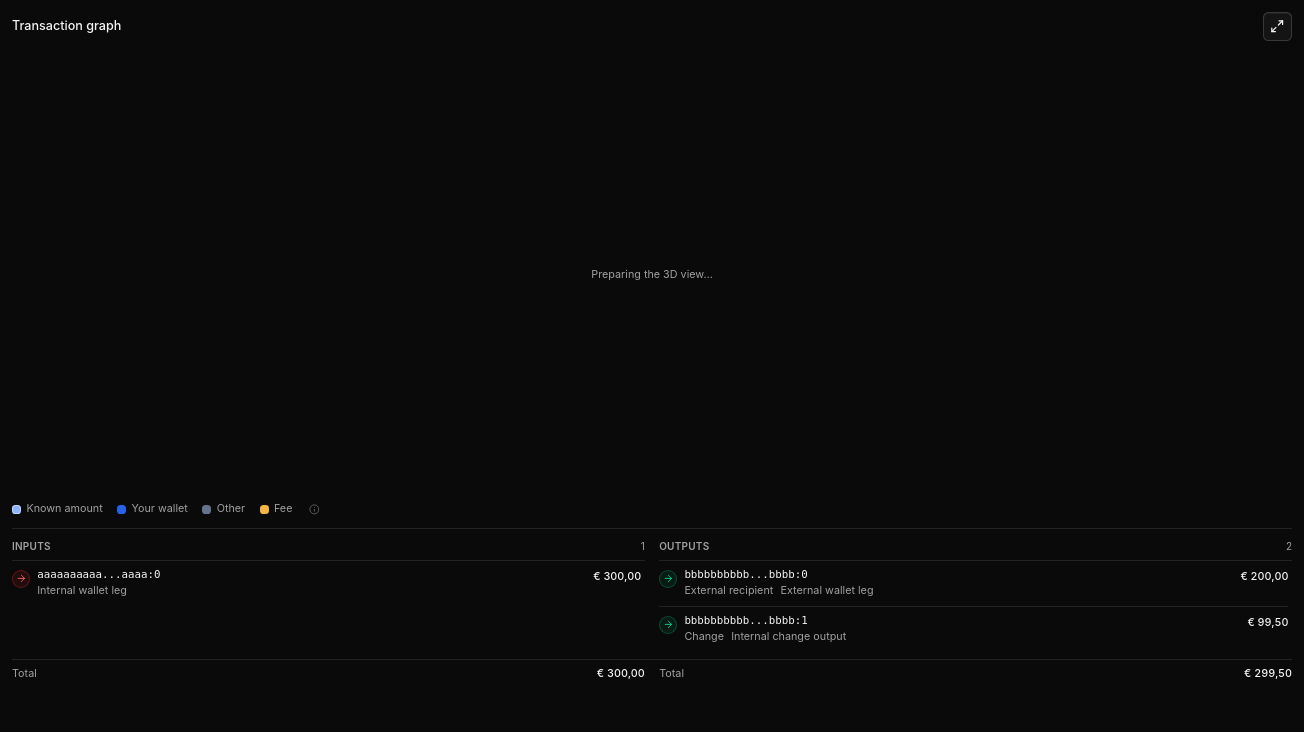
transaction graph and its legs list › shows the legs in fiat at the transaction's price and switches on a click
Click the button "€ 99,50" at (1268, 623), box left=1247, top=616, right=1288, bottom=630
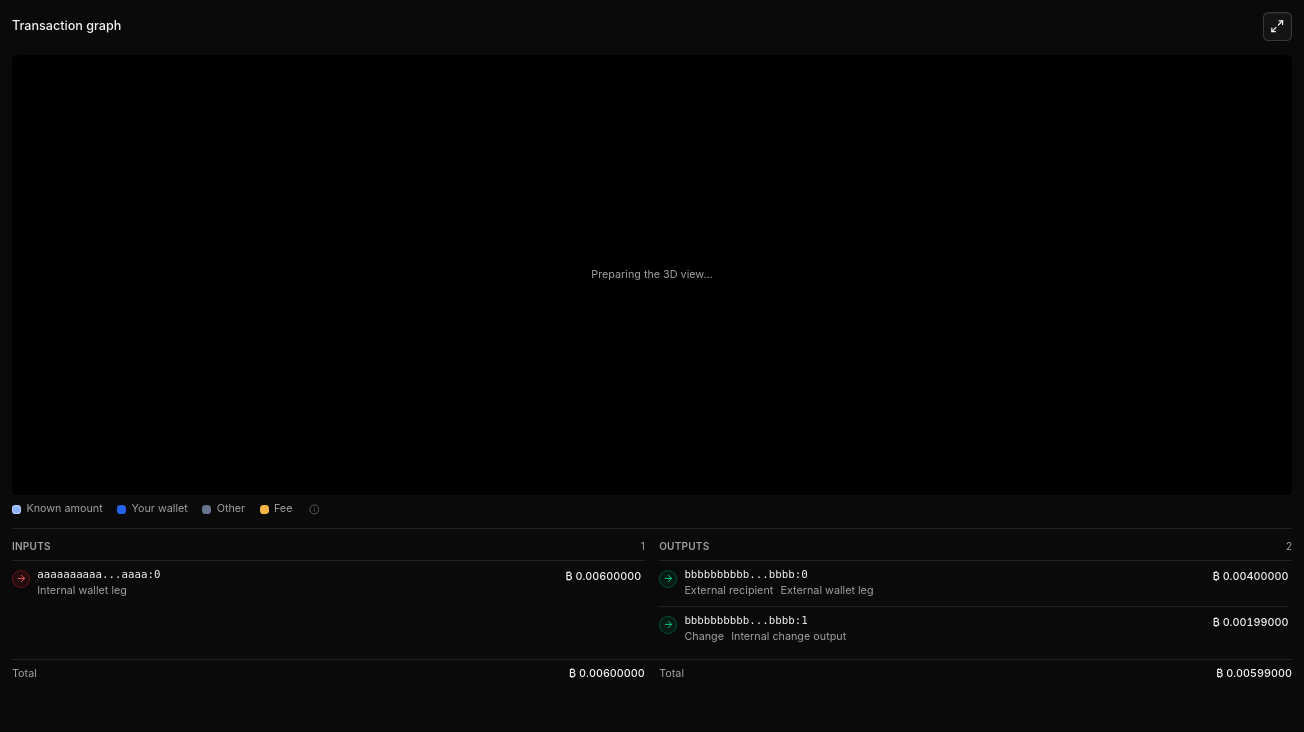
expect the button "₿ 0.00199000" is shown: met, box left=1213, top=616, right=1288, bottom=630
